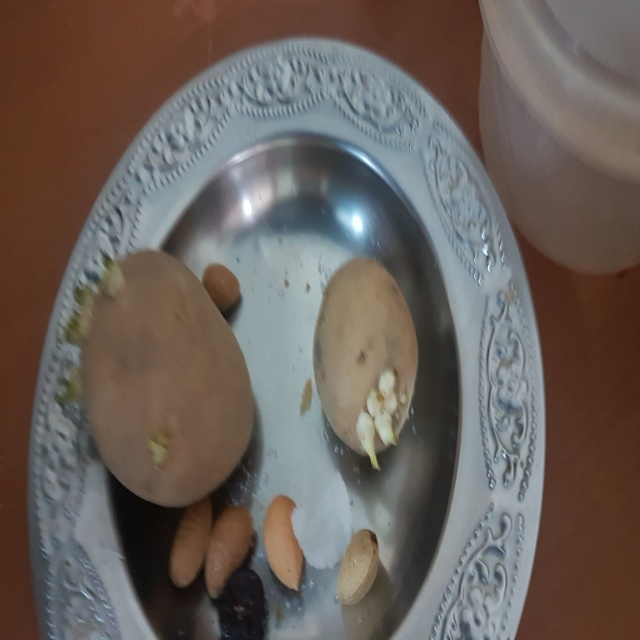potato: (54, 243, 265, 506), (301, 243, 425, 474)
